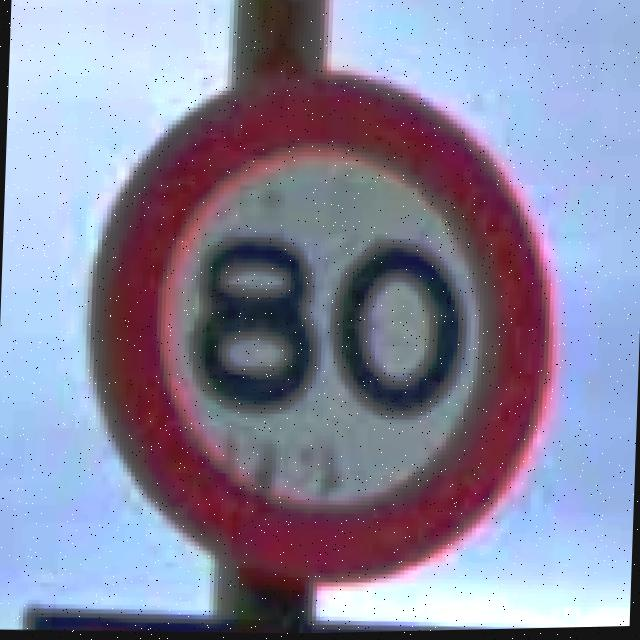max80: (77, 51, 566, 599)
